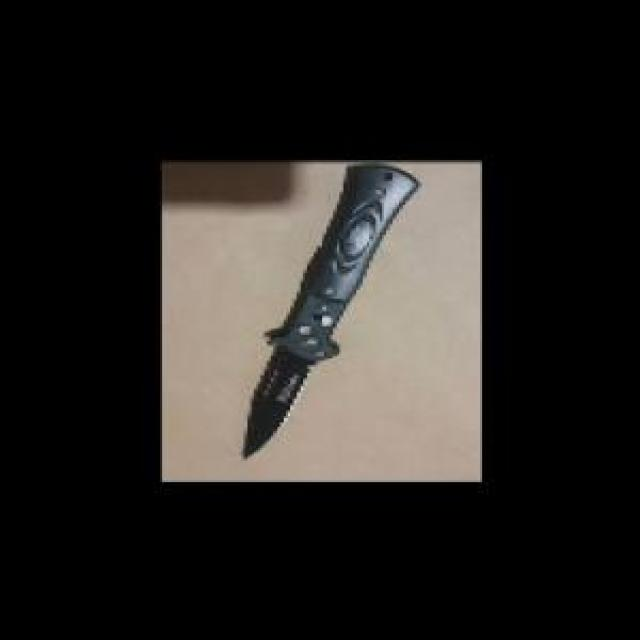knife: (230, 160, 447, 461)
